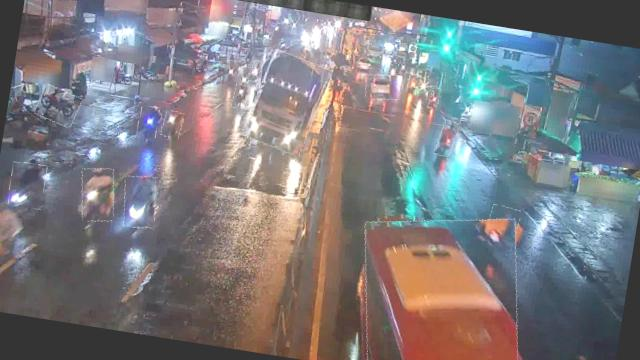Bike: (76, 165, 120, 224), (120, 174, 161, 230), (6, 160, 48, 210), (35, 84, 82, 128), (482, 204, 520, 254), (436, 120, 458, 158), (137, 106, 161, 140), (162, 109, 184, 140), (231, 84, 247, 109), (250, 59, 264, 82), (225, 60, 239, 82), (428, 87, 441, 109), (417, 78, 430, 100), (406, 73, 418, 95), (240, 66, 251, 84)
Bus: (347, 203, 534, 360)
Car: (364, 72, 403, 102)
Truck: (244, 48, 330, 156)
